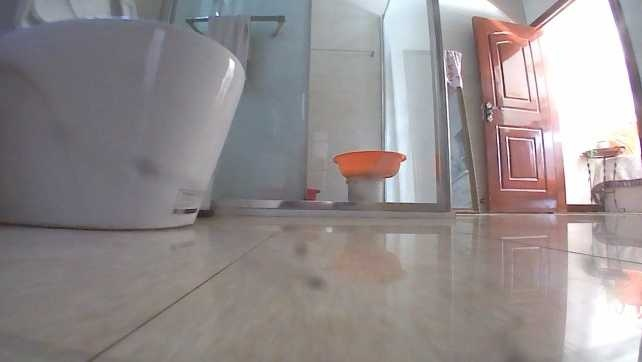door_anno: (472, 16, 570, 214)
toilet: (0, 0, 246, 232)
